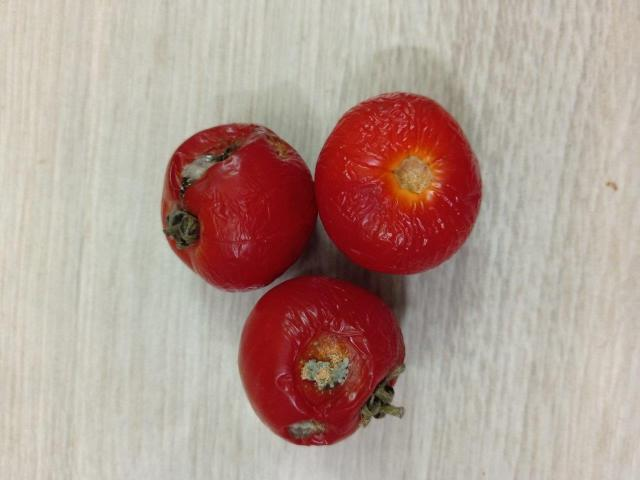defect: (318, 83, 485, 280), (235, 272, 412, 452), (158, 118, 316, 294)
